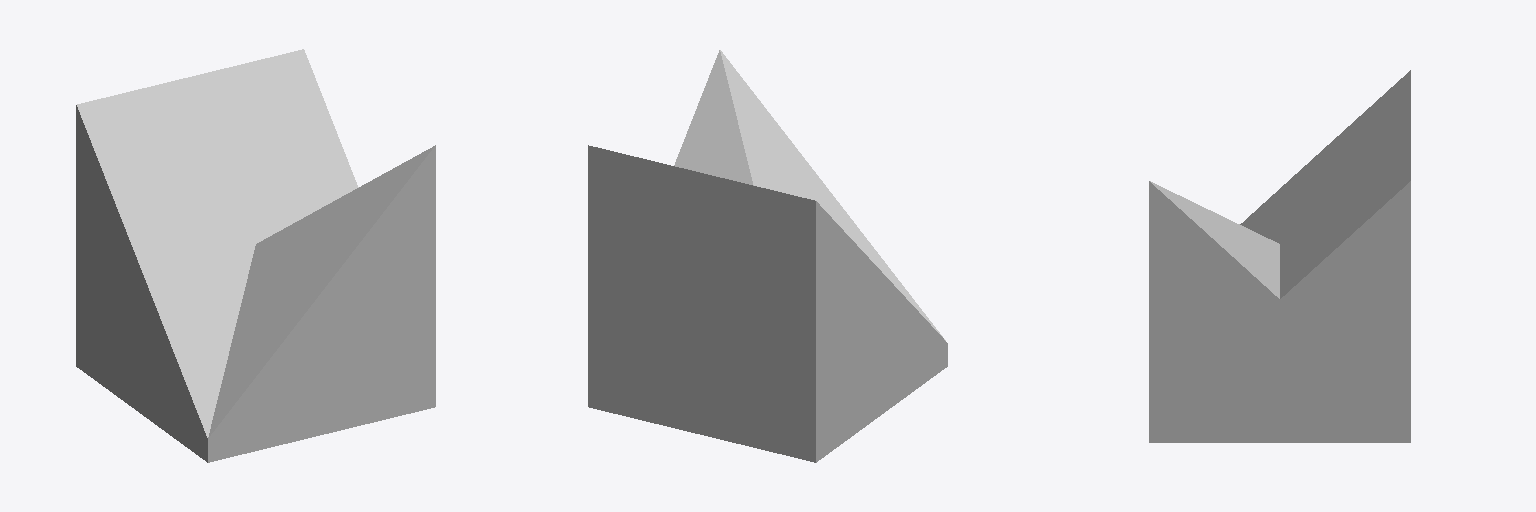
3 renders of one model, left to right at view 1: azimuth 30°, elevation 25°; view 2: azimuth 150°, elevation 25°; view 3: azimuth 270°, elevation 25°, orthographic.
Parts seen in each view (by area): view 1: cube1; view 2: cube1; view 3: cube1.
Part boxes in pixels (bbox=[...]): cube1: bbox=[76, 49, 435, 462]; cube1: bbox=[588, 50, 947, 462]; cube1: bbox=[1149, 70, 1410, 442].
Size of the model in its own units: 1 by 1.1 by 1.